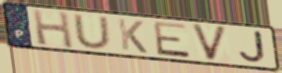E: (151, 20, 192, 59)
H: (30, 8, 76, 51)
J: (237, 30, 267, 64)
K: (116, 17, 150, 55)
U: (71, 13, 115, 51)
V: (189, 22, 230, 63)
